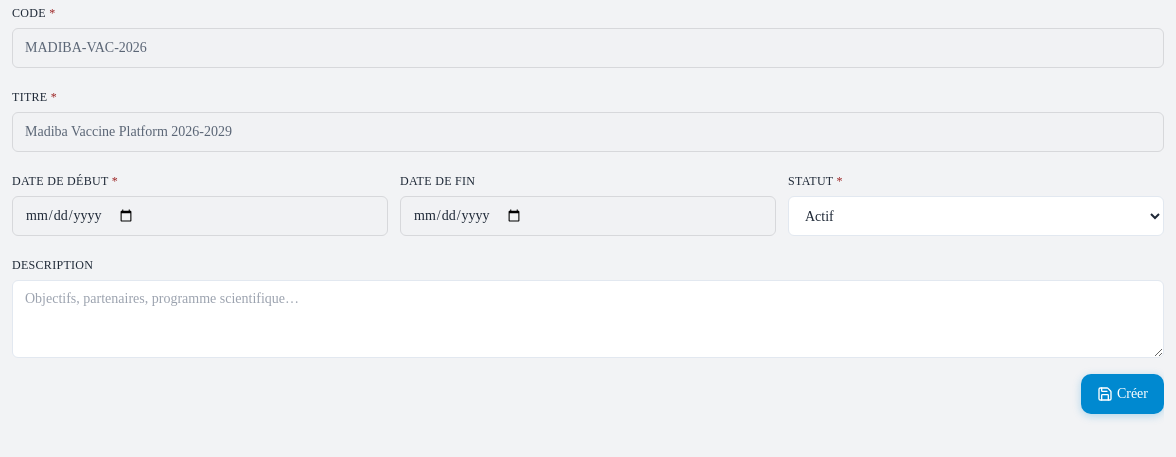
Test: ProjectForm › validation : code minuscule → erreur, submit non appelé
Type "madiba-vac" into the field with test id "project-code-input" at (588, 48), box top-left (12, 28), bottom-right (1164, 68)
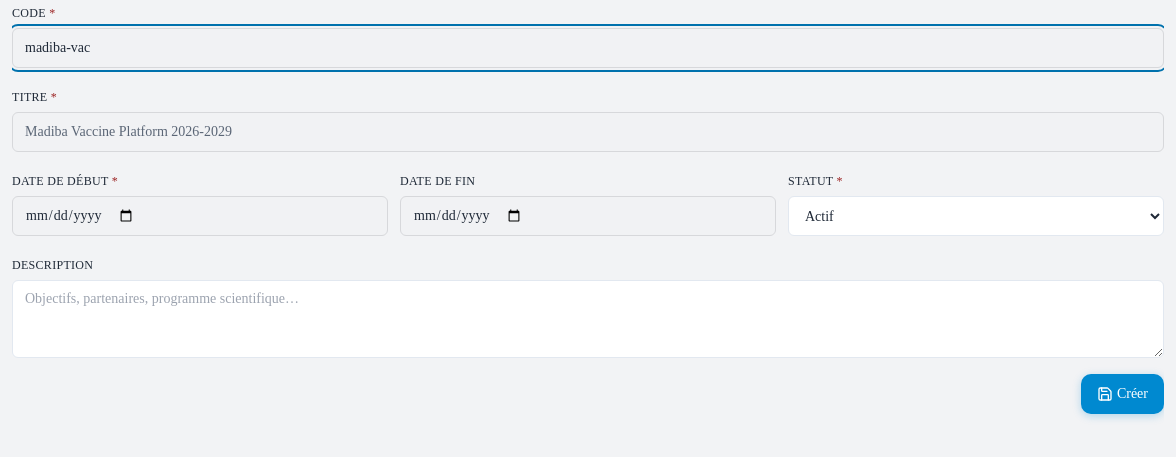
Type "A valid title here" into the field with test id "project-title-input" at (588, 132), box top-left (12, 112), bottom-right (1164, 152)
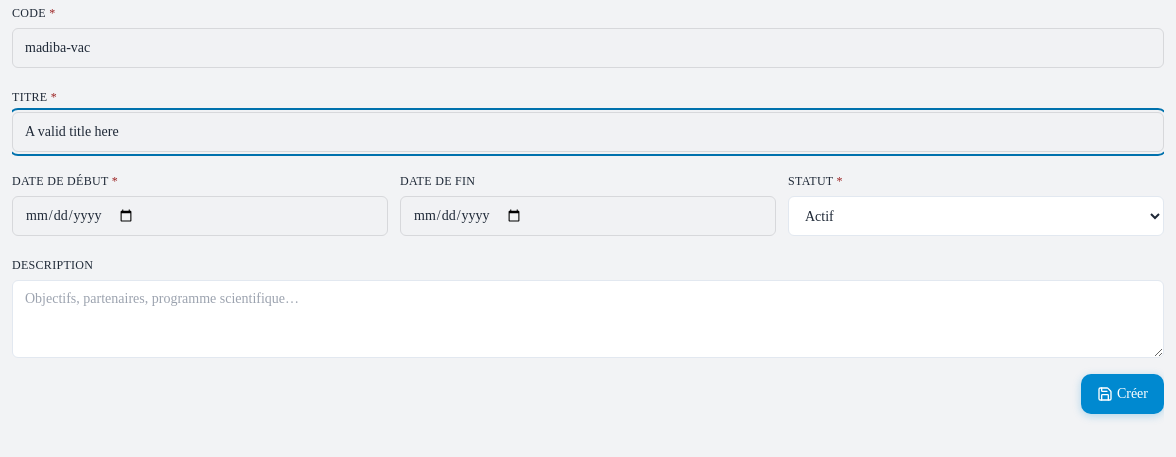
Type "2026-01-01" into the date field with test id "project-startdate-input" at (200, 216), box top-left (12, 196), bottom-right (388, 236)
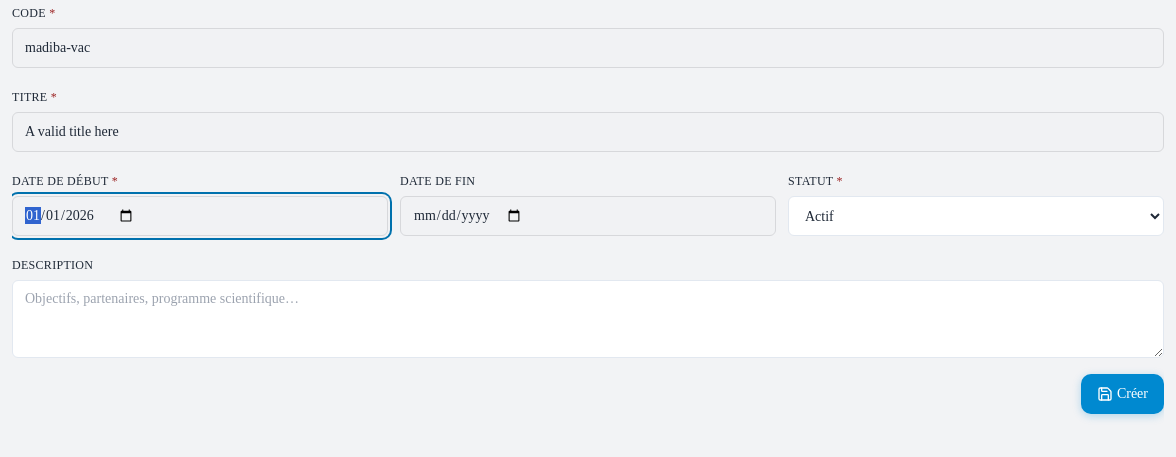
Click the button with test id "project-form-submit" at (1122, 394), box top-left (1081, 374), bottom-right (1164, 414)
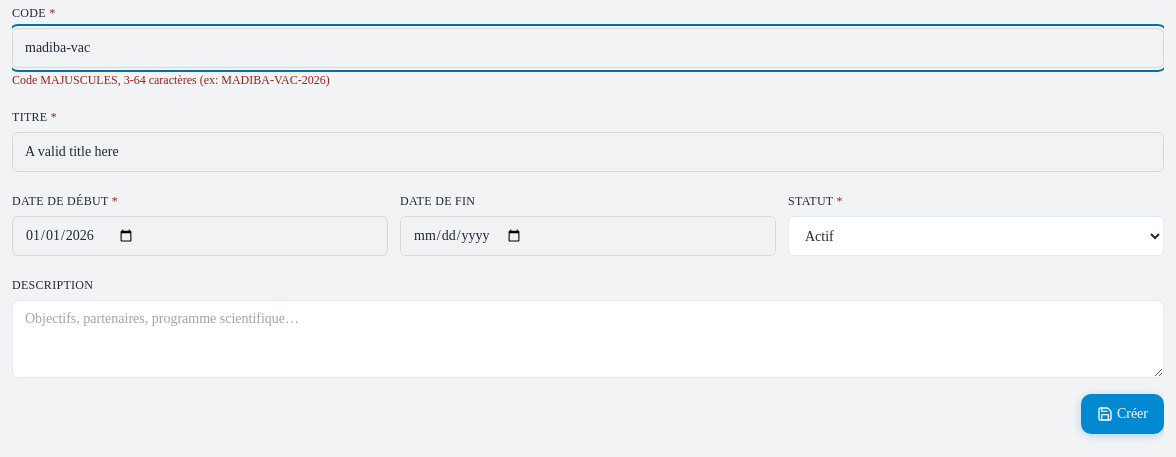
Expected: the text "Code MAJUSCULES, 3-64 caractères (ex: MADIBA-VAC-2026)" is shown, top-left (12, 73), bottom-right (330, 87)
